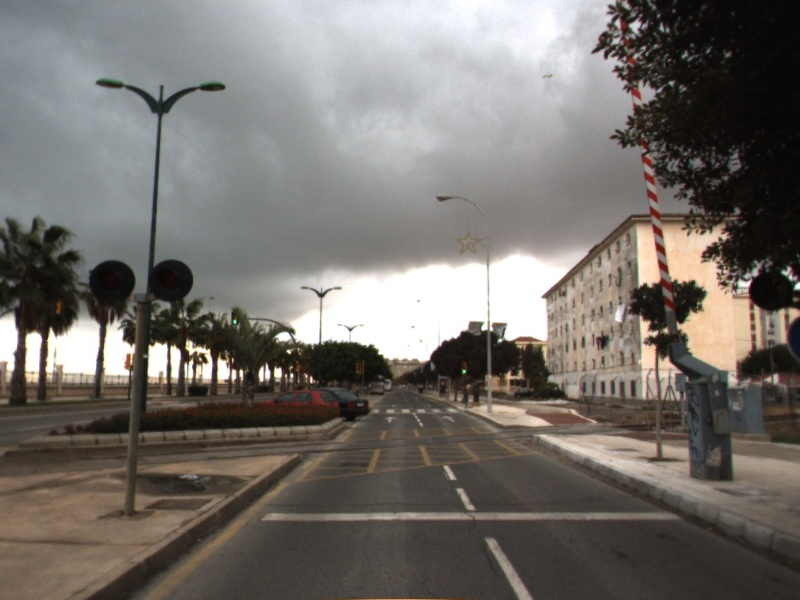STRAIGHT: (382, 414, 399, 425), (440, 414, 457, 424)
